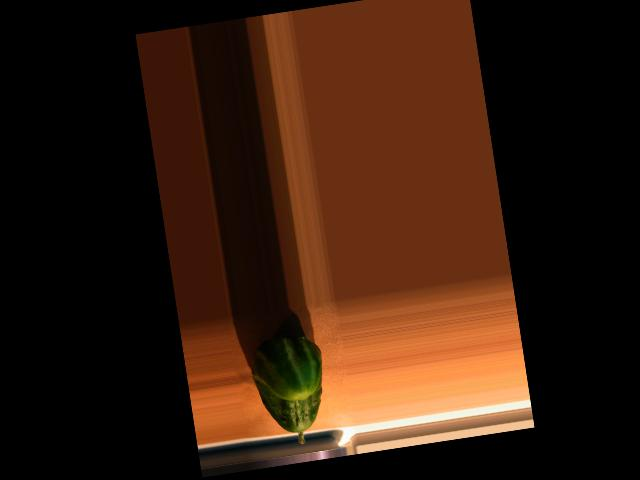cucumber: (248, 331, 334, 450)
